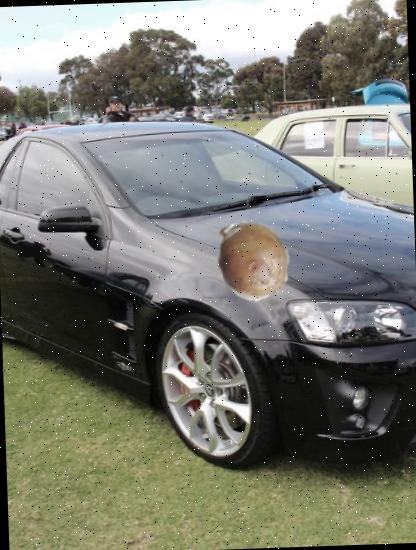Onion: (212, 219, 297, 304)
